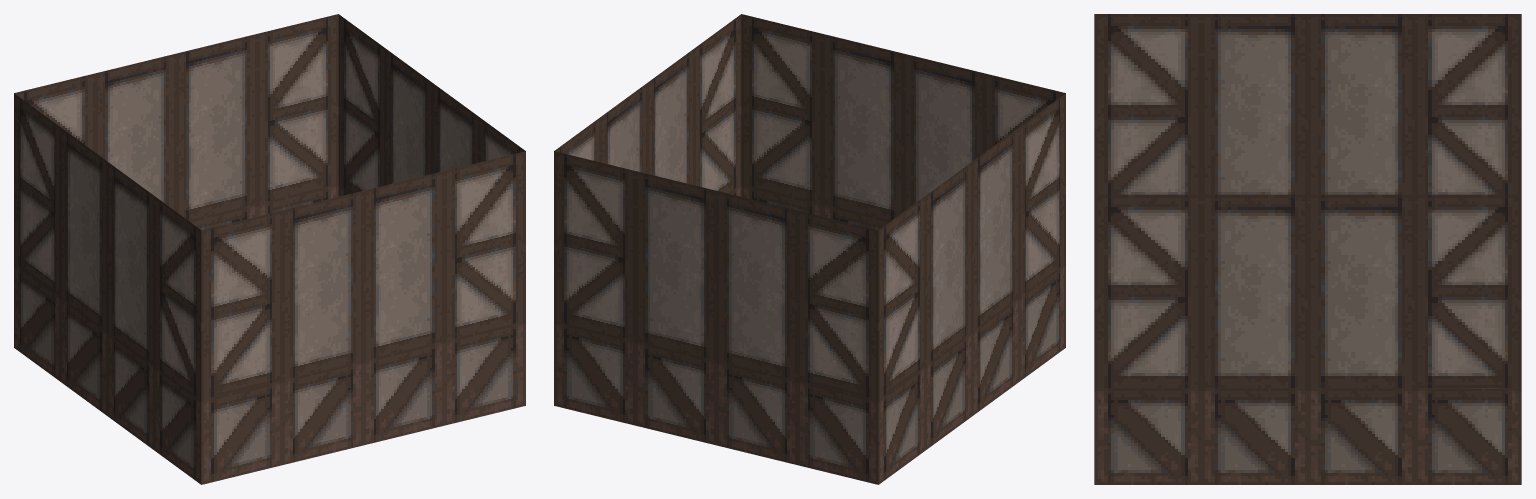
Rendered from plaster_wall_alt.glb.
3 renders of one model, left to right at view 1: azimuth 30°, elevation 25°; view 2: azimuth 150°, elevation 25°; view 3: azimuth 270°, elevation 25°, orthographic. The views are drawn at different scales.
Parts seen in each view (by area): view 1: plaster_wall_alt; view 2: plaster_wall_alt; view 3: plaster_wall_alt.
Boxes of the visible parts, box(x1,y1,x2,y2) form: plaster_wall_alt: box(14, 14, 525, 484); plaster_wall_alt: box(554, 14, 1065, 484); plaster_wall_alt: box(1094, 14, 1521, 484).
Bounding box in the file's own units: 5 × 3.75 × 5.
Materials: 1 (1 with a texture image).
